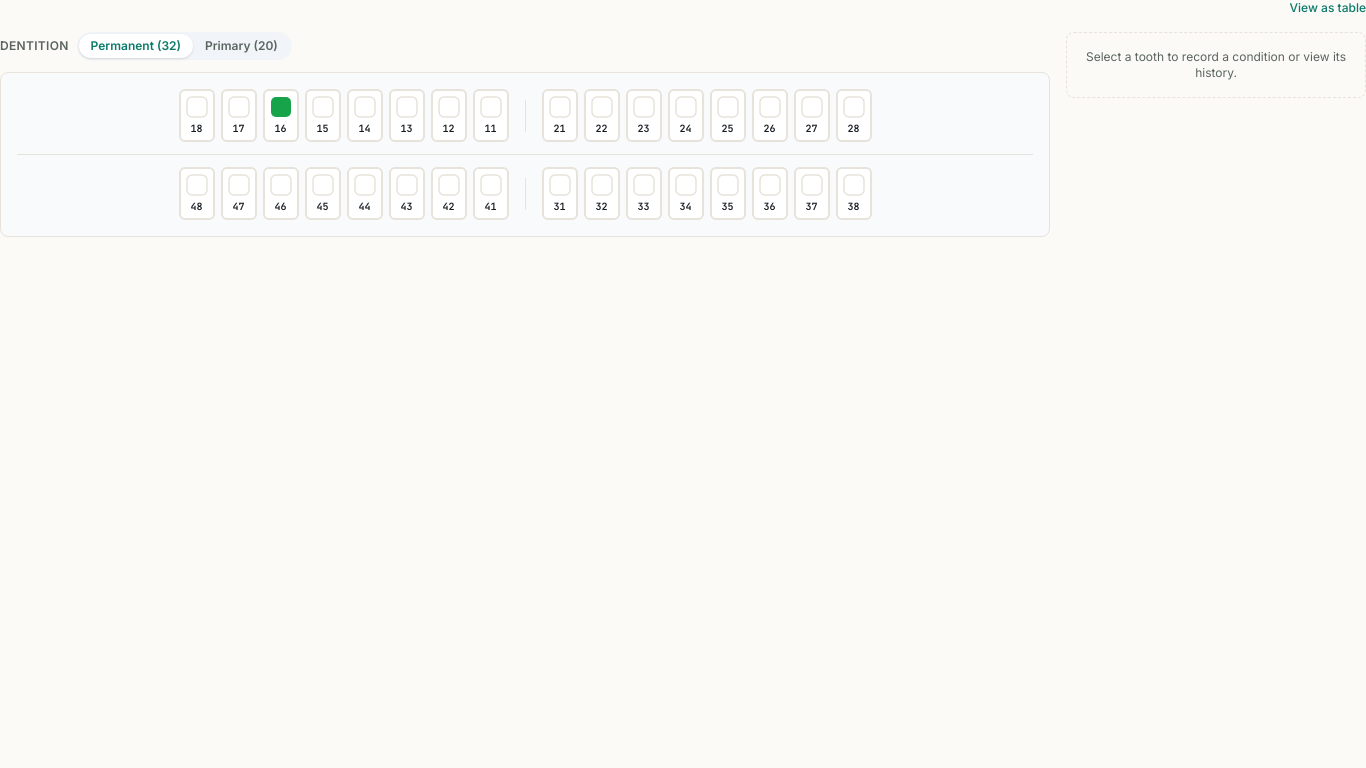
Test: OdontogramSection › shows the tooth's current condition in its accessible name and opens per-tooth history from the panel
Step 1. Click the button named "Tooth 16, Healthy" → (280, 116), box x1=262 y1=89 x2=298 y2=142
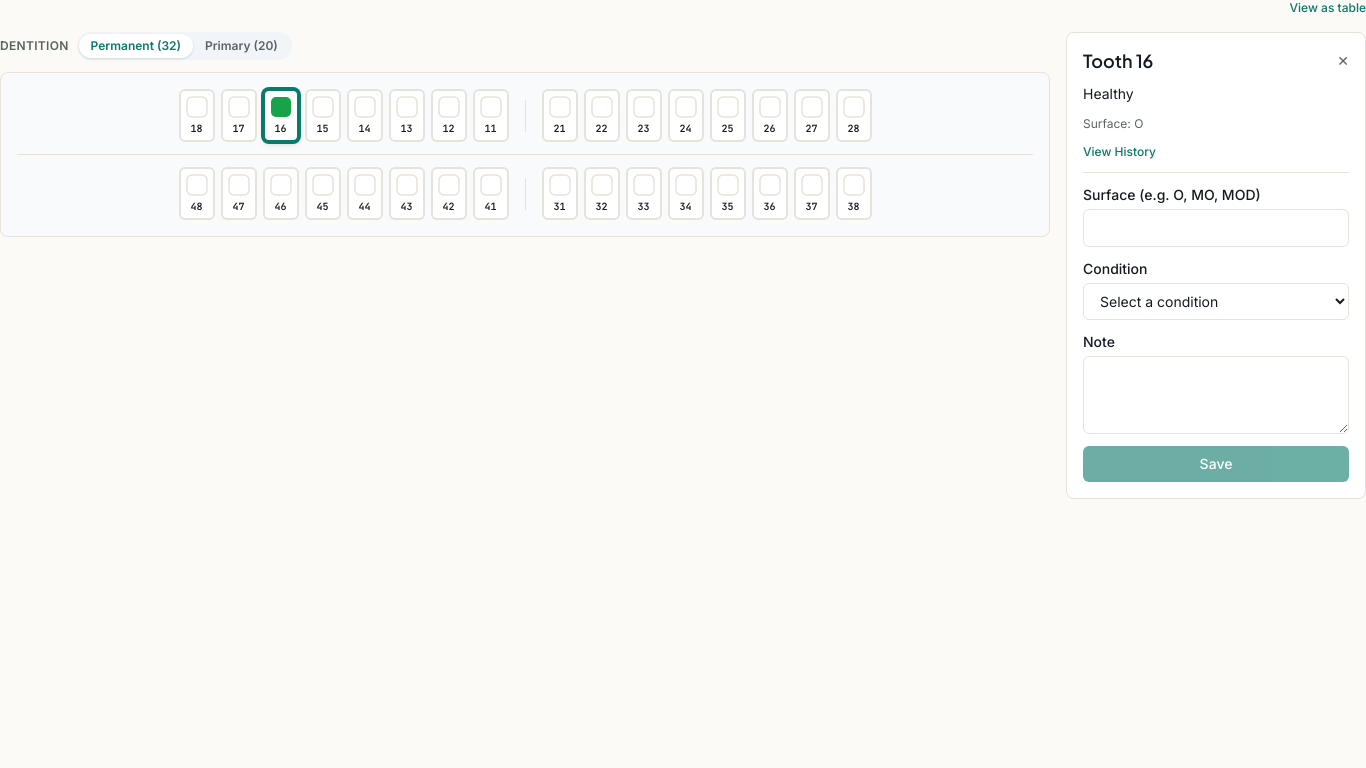
Step 2. Click the button "View History" → (1119, 152), box x1=1083 y1=144 x2=1156 y2=160
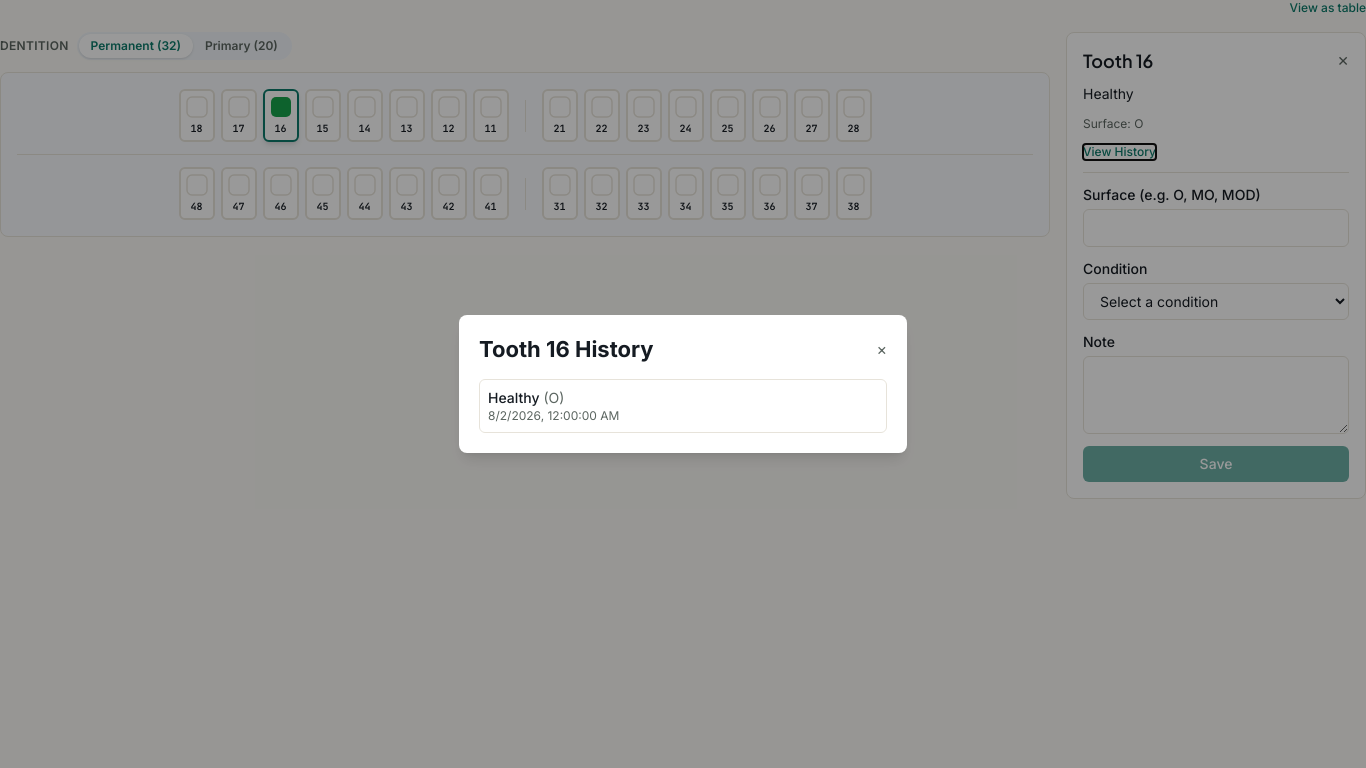
Expected: the dialog "Tooth 16 History" is shown, x1=459 y1=315 x2=907 y2=453
